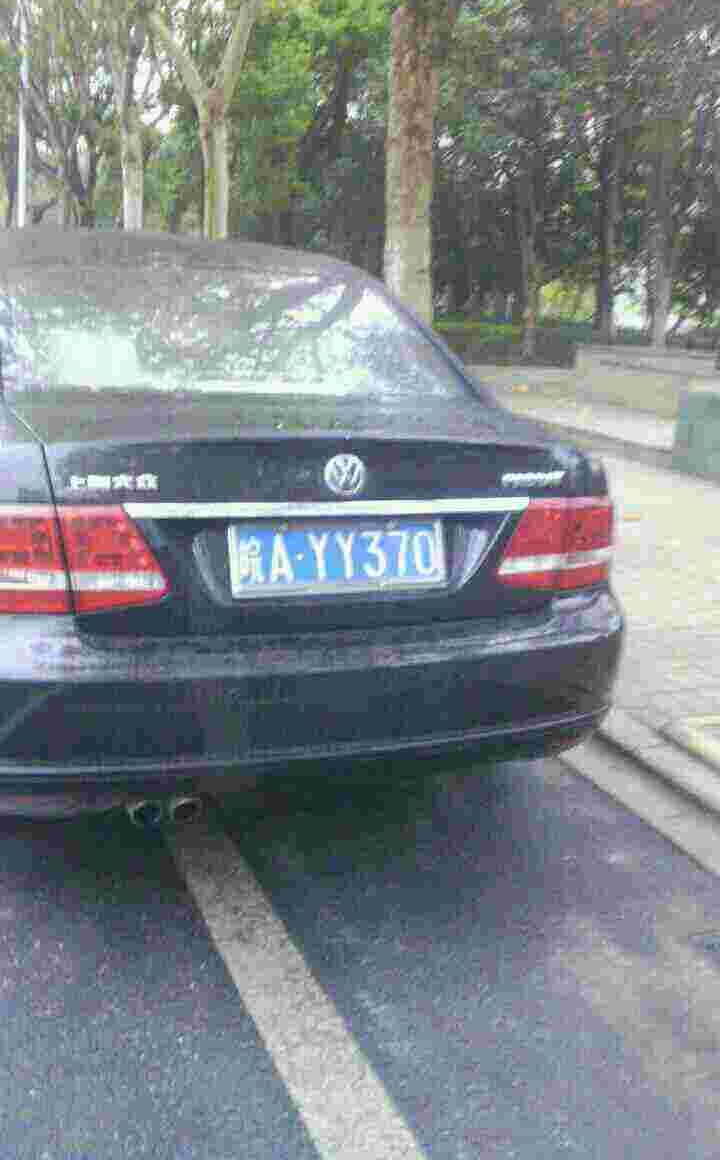car: (227, 520, 455, 594)
